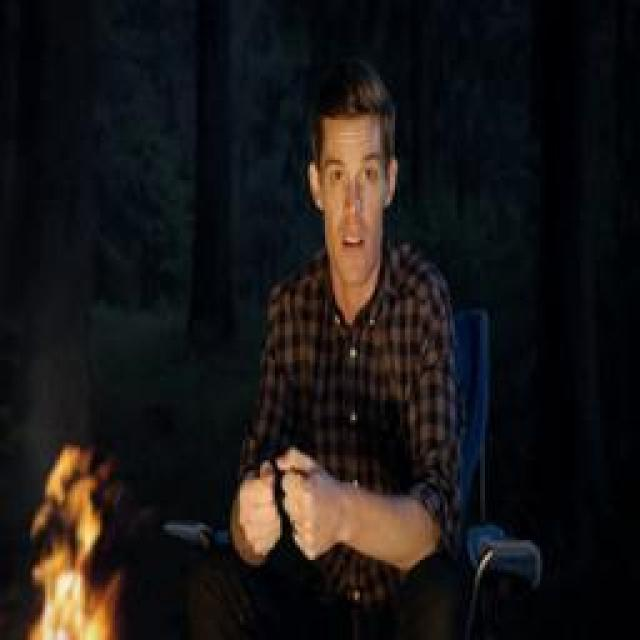Fire: (18, 450, 124, 640)
